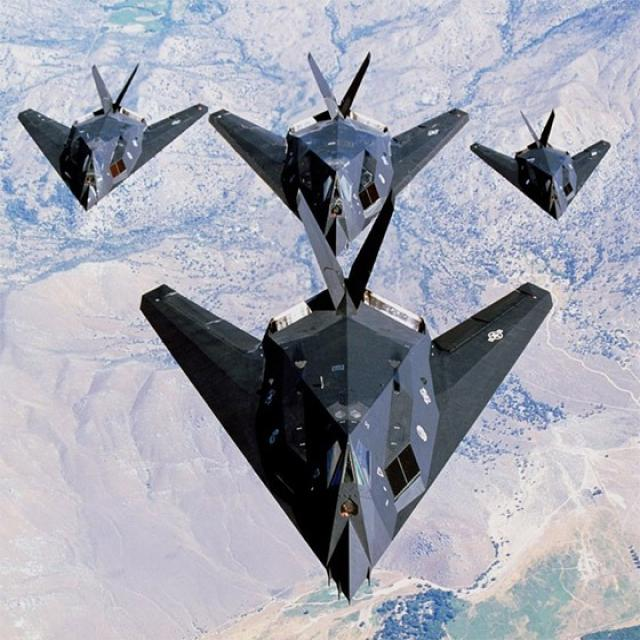F117: (134, 238, 640, 619), (206, 32, 477, 270), (2, 9, 211, 201), (463, 98, 640, 236)
